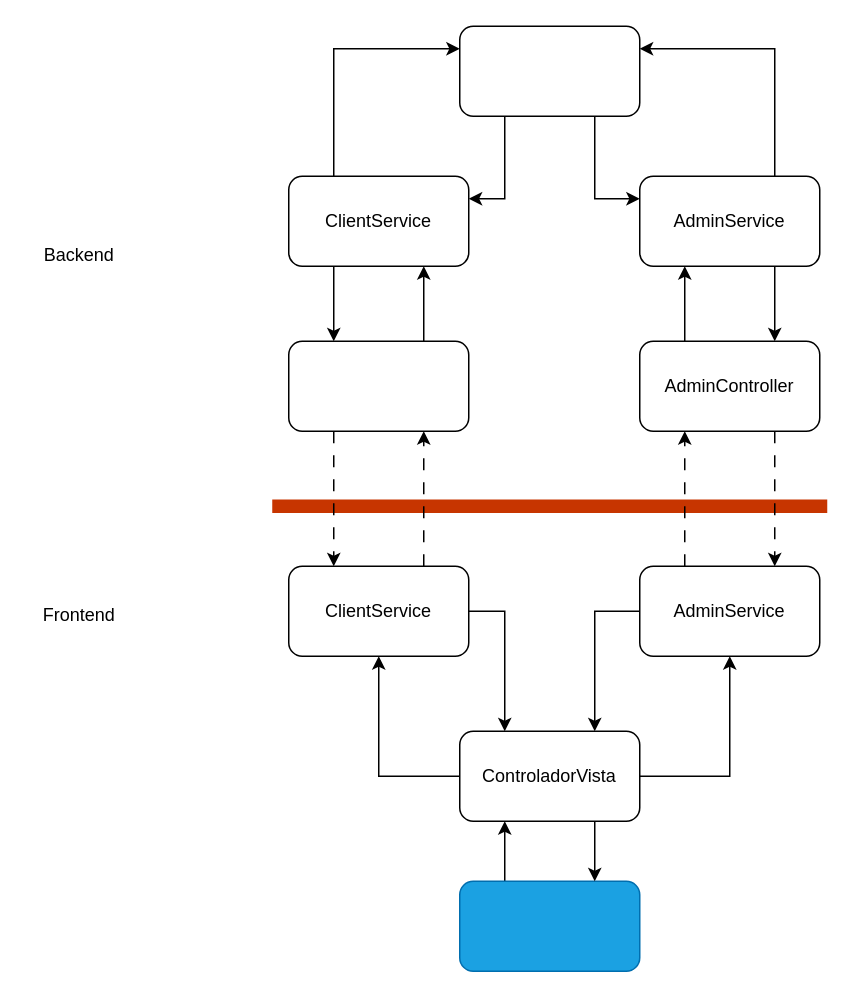
Some shapes in this 861 by 998 pixel diagram are drawn without their labels. Here are the shapes that lost their labels. From the top down, the centre of each, then its label:
point 549,70: OwnRepository
point 378,385: Client Controller
point 549,925: Vista
